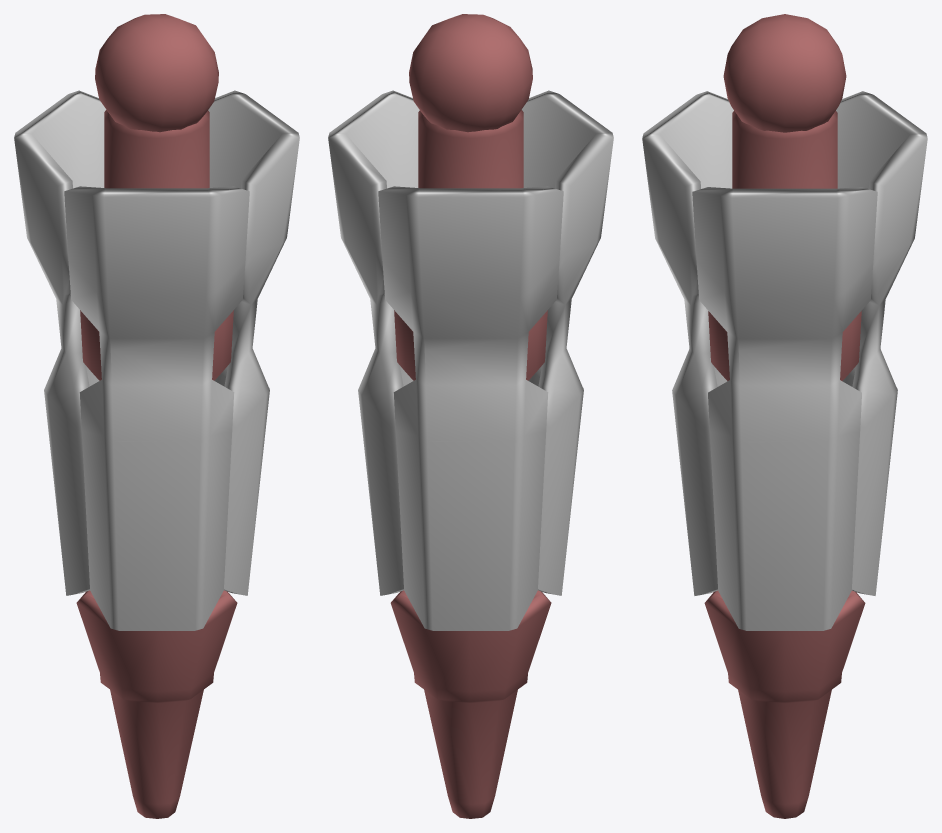
File: SM_LegEnd.fbx
The picture shows the model from 3 angles, left to right: view 1: azimuth 30°, elevation 25°; view 2: azimuth 150°, elevation 25°; view 3: azimuth 270°, elevation 25°; orthographic projection.
Visible parts, largest first — view 1: Leg_End; view 2: Leg_End; view 3: Leg_End.
Part boxes in pixels (x1=…): Leg_End: x1=14, y1=14, x2=299, y2=818; Leg_End: x1=328, y1=14, x2=613, y2=818; Leg_End: x1=642, y1=14, x2=927, y2=818.
Bounding box in the file's own units: 14.7 × 50.86 × 16.61.
